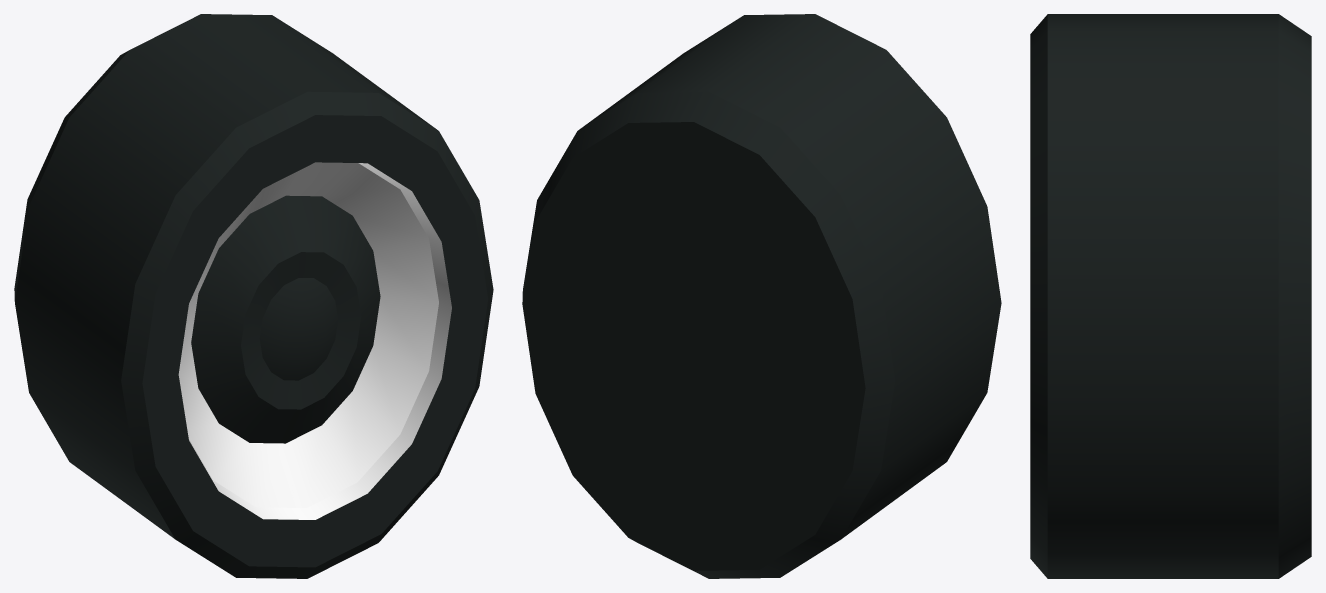
Rendered from carWheel.glb.
3 views of the same model, side by side, from view 1: azimuth 30°, elevation 25°; view 2: azimuth 150°, elevation 25°; view 3: azimuth 270°, elevation 25° (orthographic). The views are drawn at different scales.
Visible parts, largest first — view 1: whell.003; view 2: whell.003; view 3: whell.003.
Part boxes in pixels (left/top/right/bottom): whell.003: left=14, top=14, right=493, bottom=578; whell.003: left=522, top=14, right=1001, bottom=578; whell.003: left=1030, top=14, right=1311, bottom=578.
Size of the model in its own units: 0.4887 by 0.6109 by 0.2939.
1 material, 1 textured.
